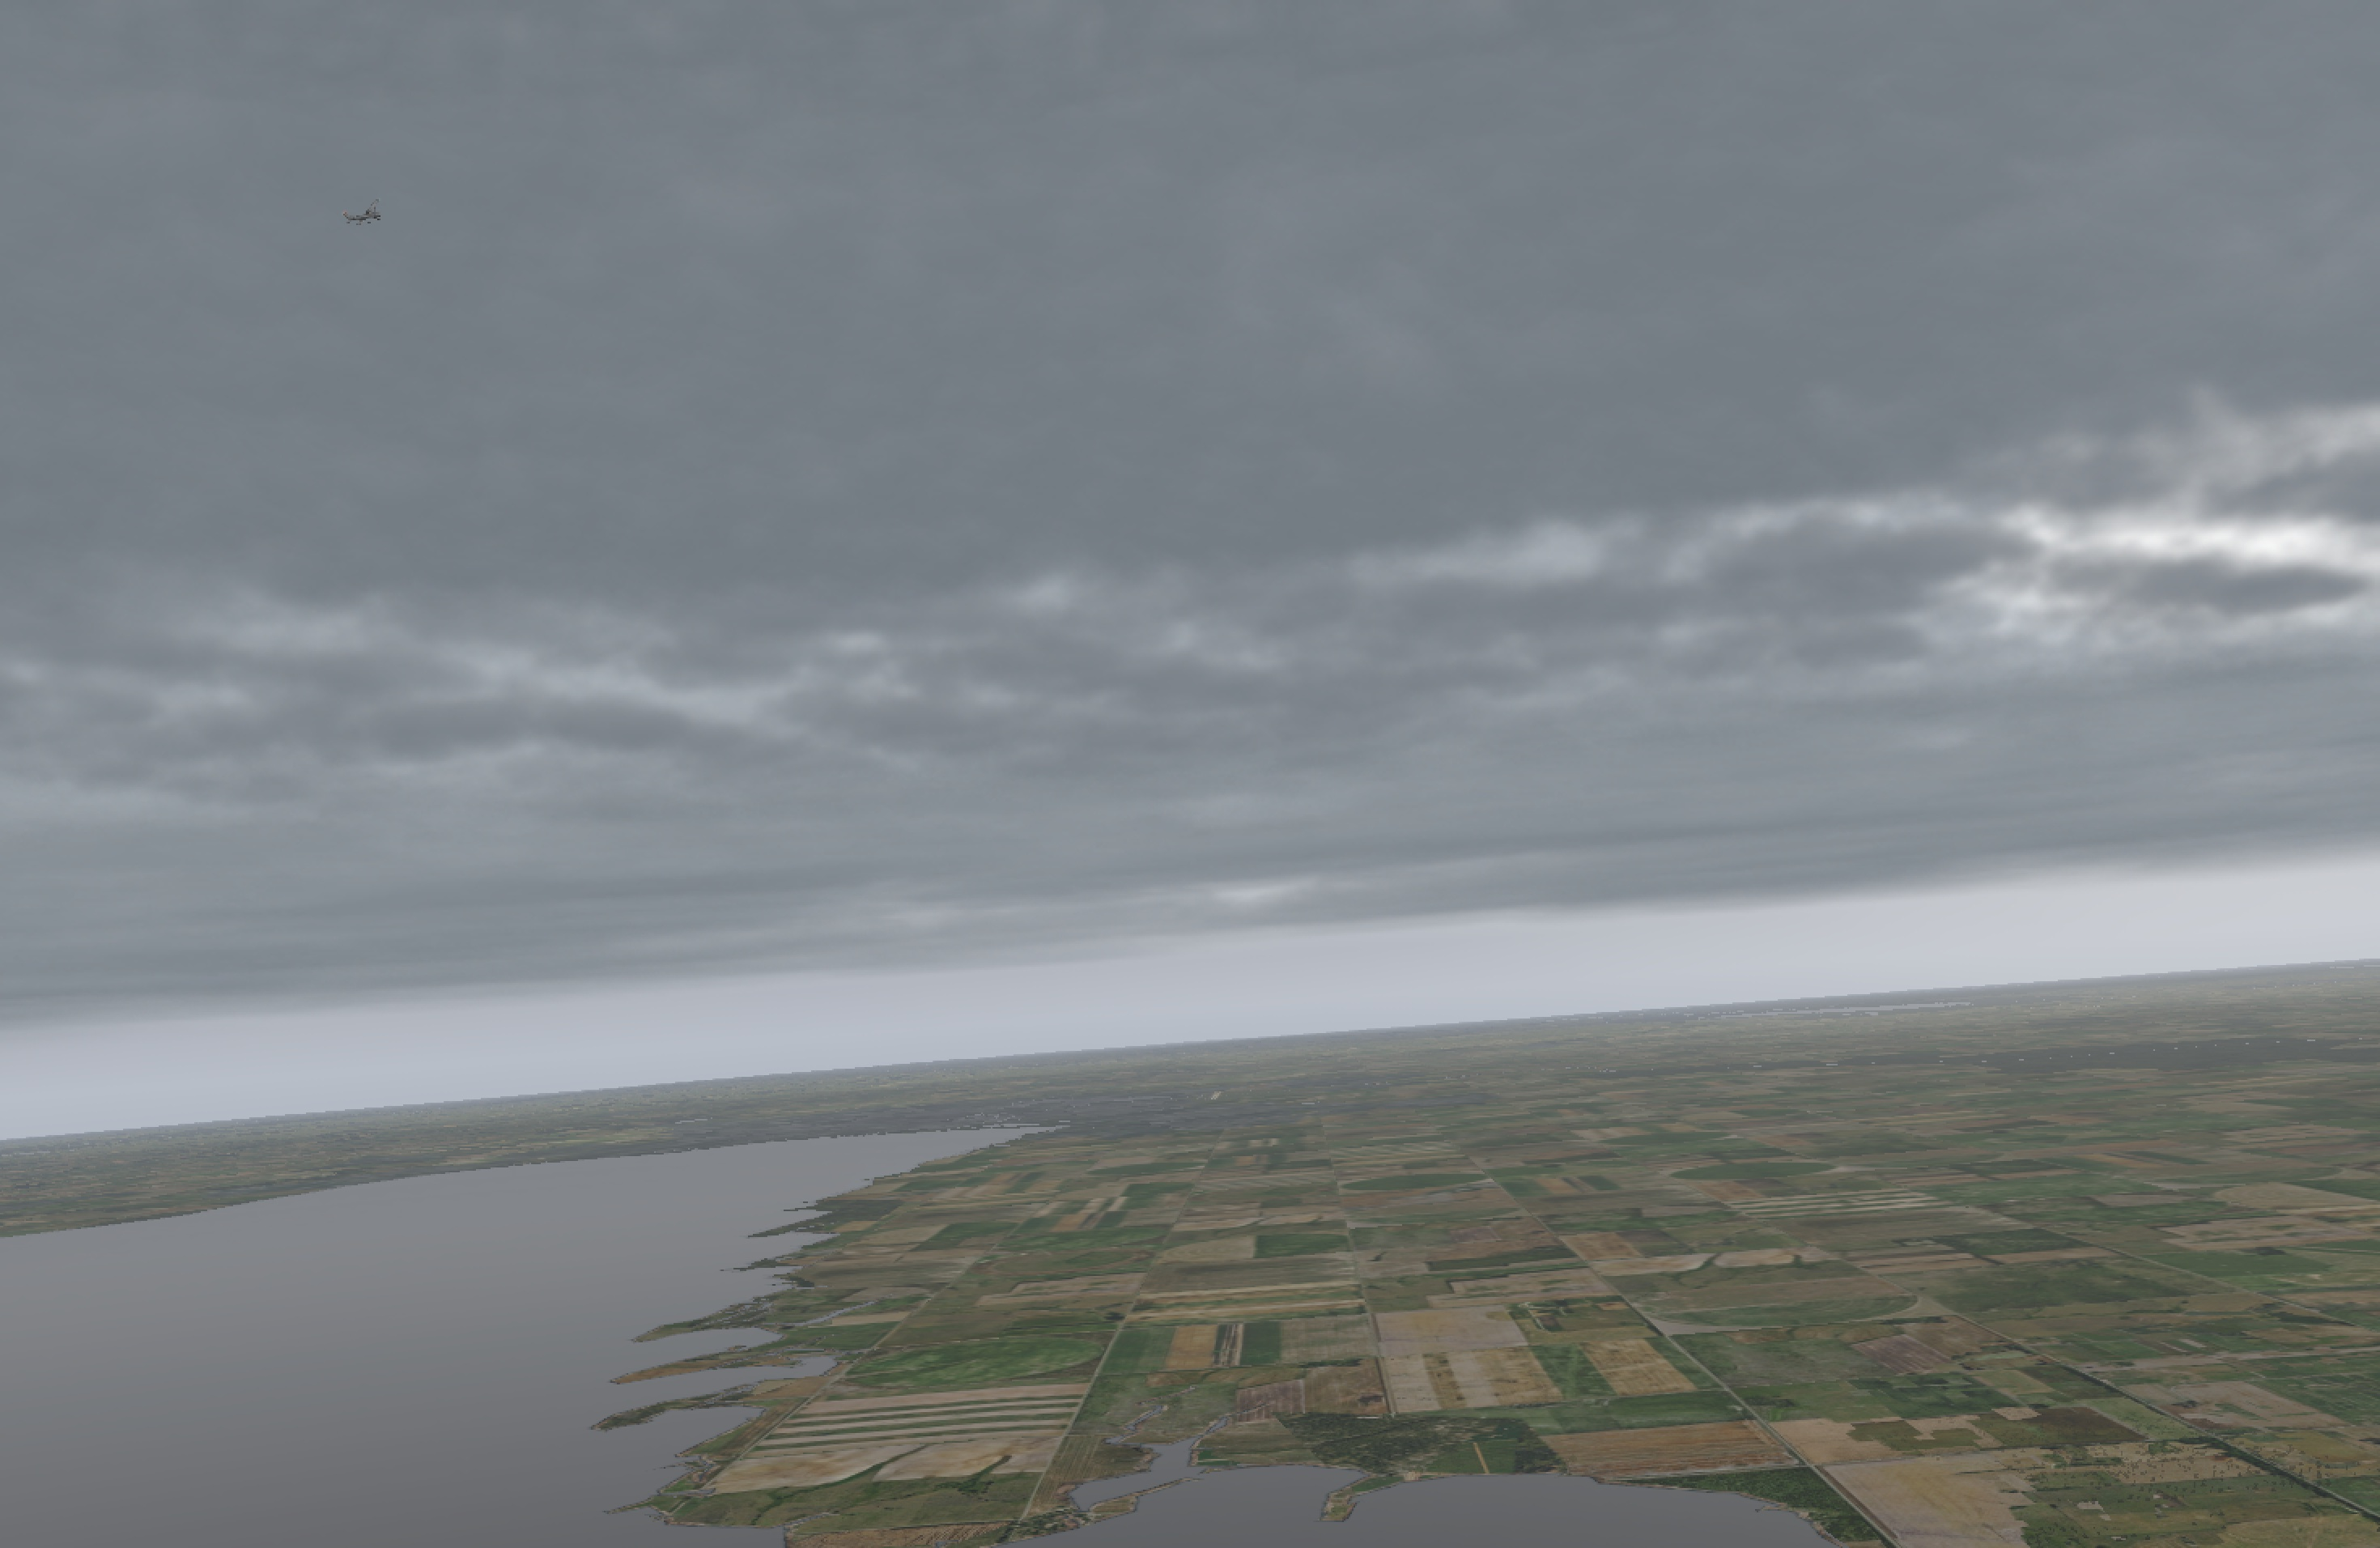aircraft: (354, 208, 387, 222)
